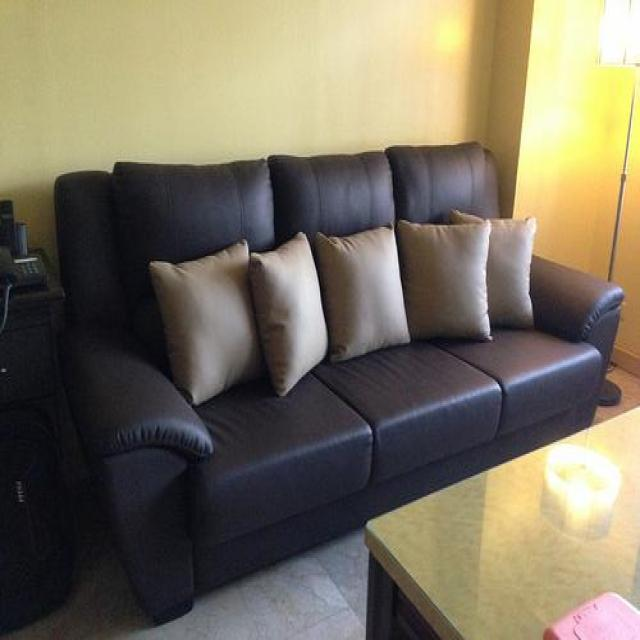sofa: (53, 142, 624, 624)
